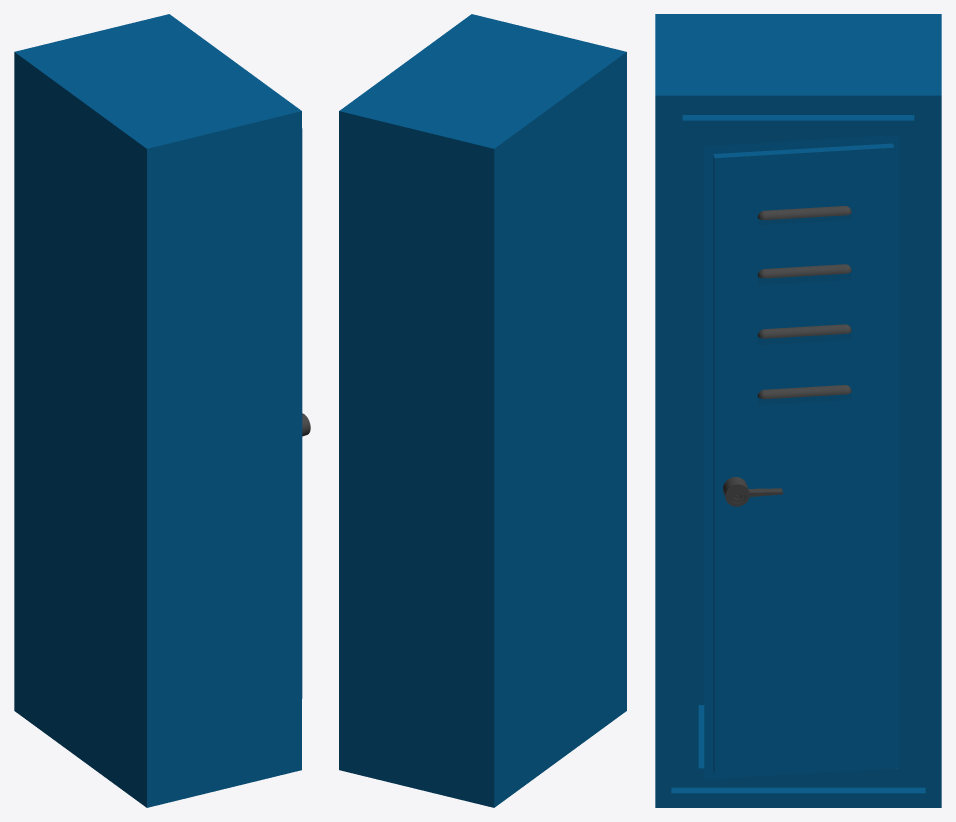
The model's file is Locker_2.0.glb.
The picture shows the model from 3 angles, left to right: view 1: azimuth 30°, elevation 25°; view 2: azimuth 150°, elevation 25°; view 3: azimuth 270°, elevation 25°; orthographic projection. The views are drawn at different scales.
Parts seen in each view (by area): view 1: main, door; view 2: main; view 3: main, door.001, door.003, door.002, door, Sphere.001, Sphere.002, Sphere, Sphere.003, Circle.
Part boxes in pixels (x1,y1,x2,y2): main: (14, 14, 301, 807); door: (302, 128, 302, 698); main: (339, 14, 626, 807); main: (655, 14, 941, 807); door.001: (714, 147, 894, 774); door.003: (755, 154, 853, 459); door.002: (719, 152, 889, 461); door: (704, 135, 898, 779); Sphere.001: (757, 264, 851, 278); Sphere.002: (757, 324, 851, 338); Sphere: (757, 206, 851, 219); Sphere.003: (757, 385, 851, 399); Circle: (723, 477, 783, 506).
Size of the model in its own units: 1.67 by 5.35 by 1.95.
